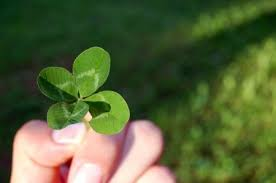4-clover: (37, 46, 131, 135)
